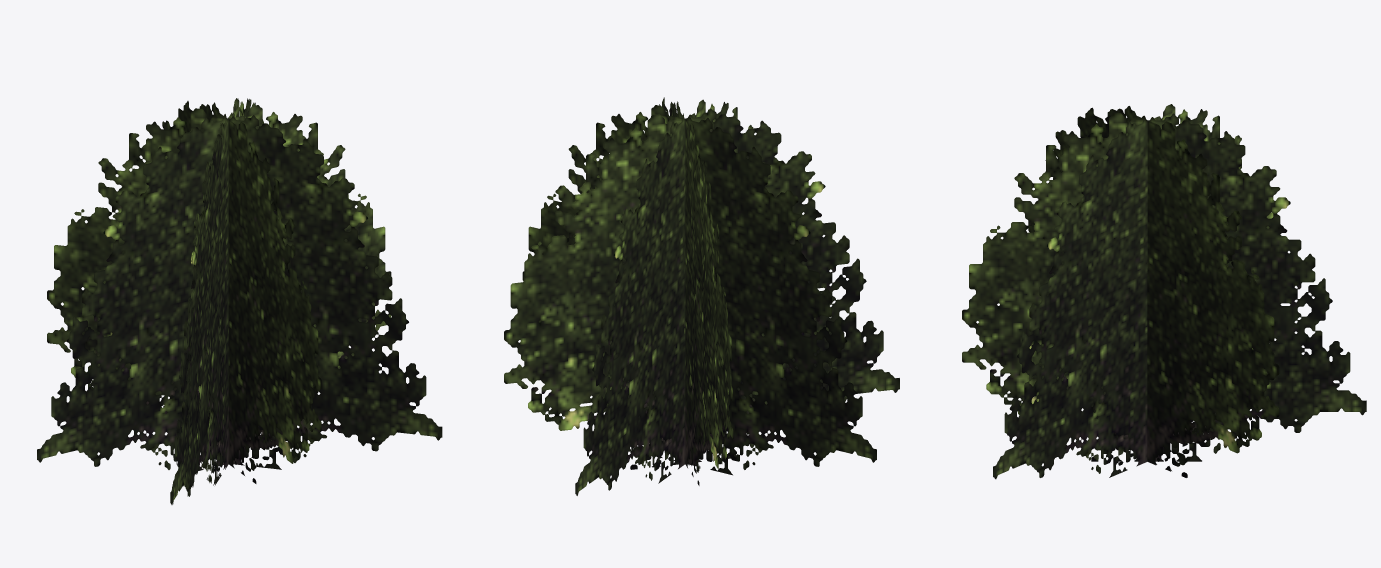
The model's file is bush06.glb.
3 views of the same model, side by side, from view 1: azimuth 30°, elevation 25°; view 2: azimuth 150°, elevation 25°; view 3: azimuth 270°, elevation 25° (orthographic).
Parts seen in each view (by area): view 1: bush06; view 2: bush06; view 3: bush06.
Boxes of the visible parts, x1,y1,x2,y2 form: bush06: (37, 98, 442, 504); bush06: (504, 97, 899, 495); bush06: (962, 104, 1366, 479).
Size of the model in its own units: 8.4 by 7.5 by 8.4.
1 material, 1 textured.
